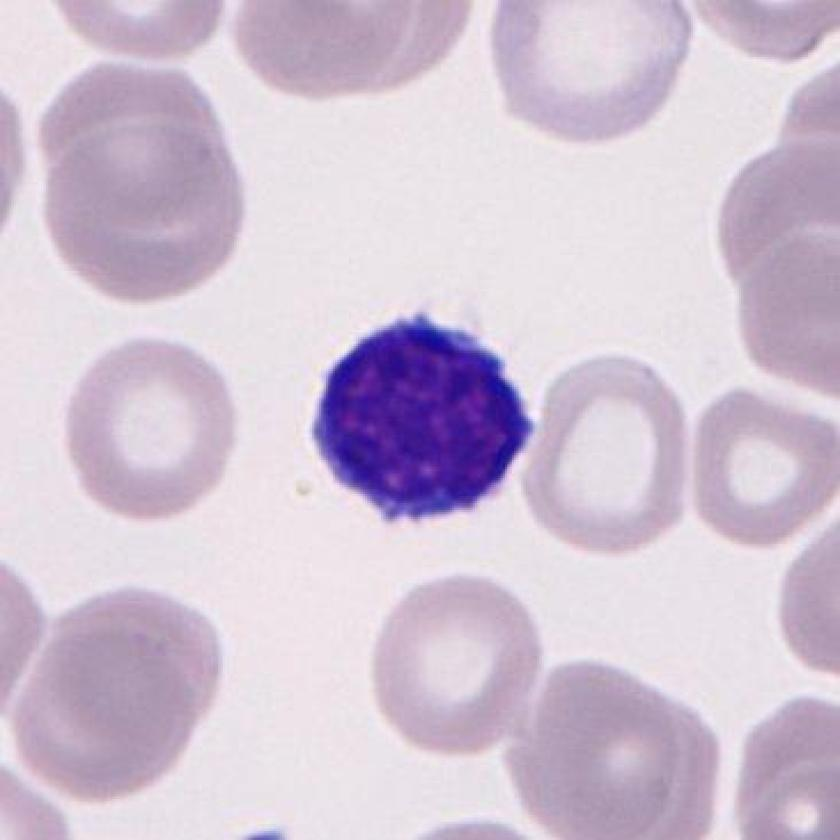lymphocyte: (288, 299, 547, 550)
